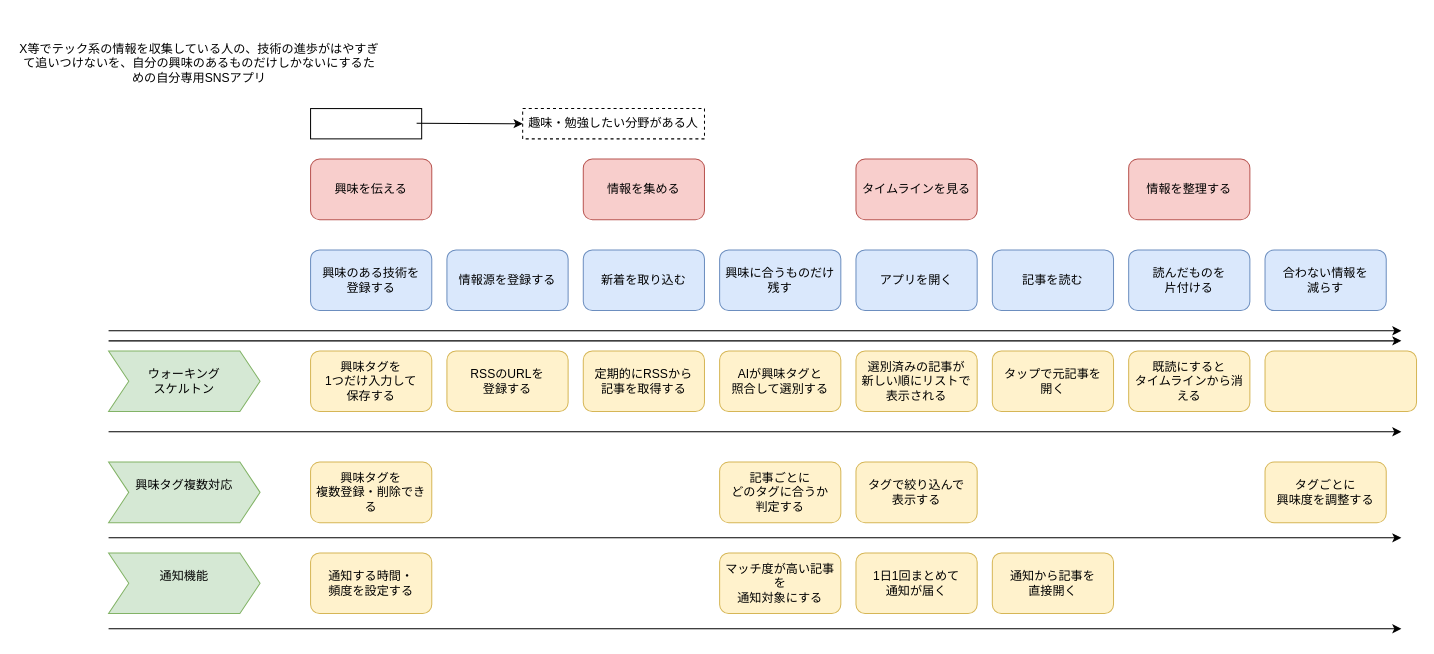
The diagram is 1434 pixels wide and 654 high, and some of its shapes have lost their labels. Here are the shapes that lost their labels. From the top down, the box of each, then its label:
(310, 108, 422, 139): エンジニア
(1264, 350, 1417, 412): 「興味なし」を押すと 非表示になる or 興味度を減らす
